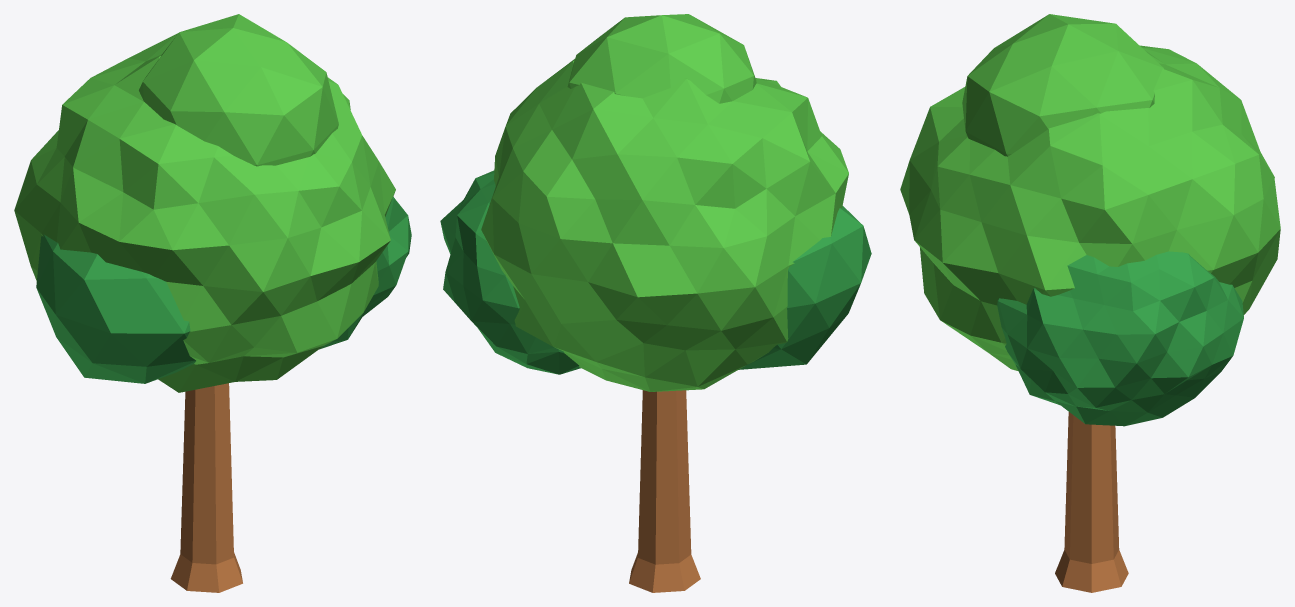
The model's file is tree_round_a.glb.
The picture shows the model from 3 angles, left to right: view 1: azimuth 30°, elevation 25°; view 2: azimuth 150°, elevation 25°; view 3: azimuth 270°, elevation 25°; orthographic projection.
Parts seen in each view (by area): view 1: tree_round_a; view 2: tree_round_a; view 3: tree_round_a.
Boxes of the visible parts, x1,y1,x2,y2 form: tree_round_a: (14, 14, 411, 592); tree_round_a: (440, 14, 871, 592); tree_round_a: (900, 14, 1280, 592).
Bounding box in the file's own units: 5.58 × 7.91 × 4.88.
